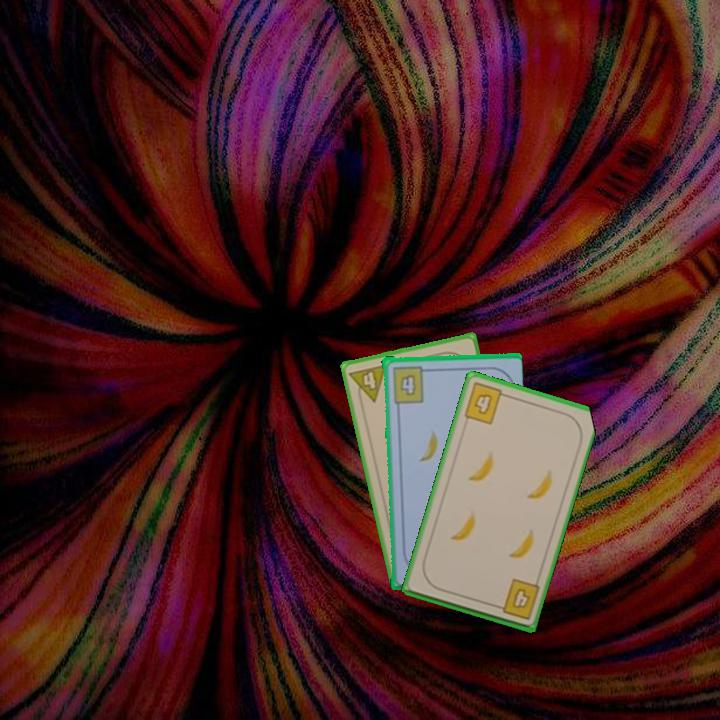4b: (460, 379, 511, 427), (491, 575, 543, 622), (388, 362, 431, 405)
4p: (346, 361, 390, 408)
